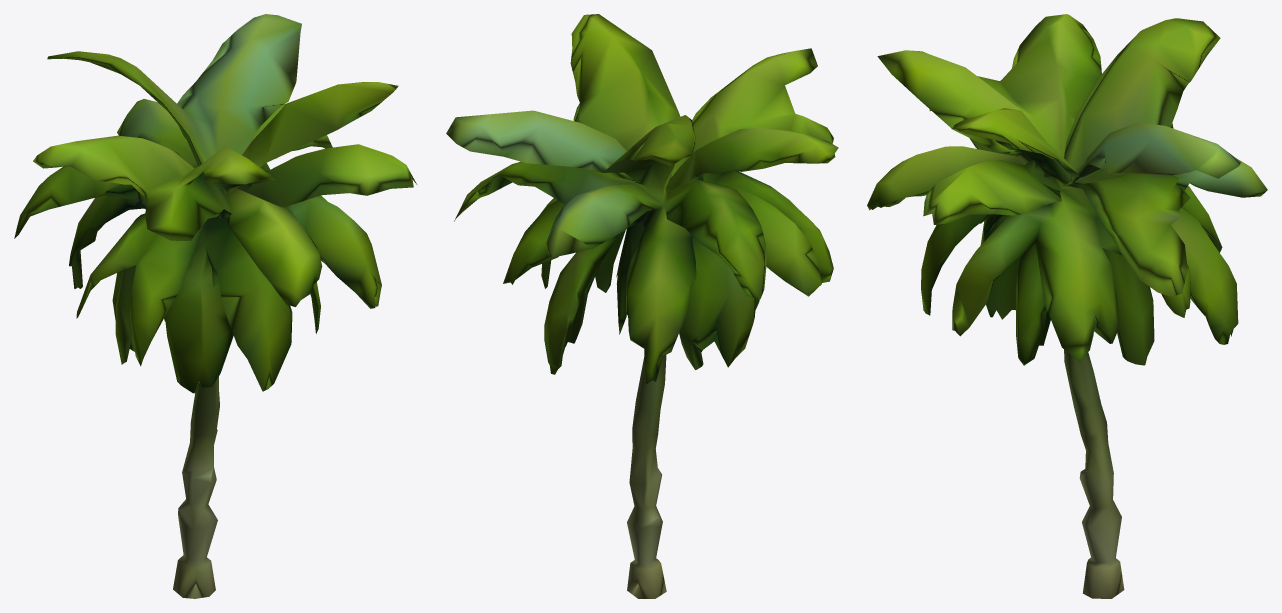
The model's file is palm_near.glb.
3 views of the same model, side by side, from view 1: azimuth 30°, elevation 25°; view 2: azimuth 150°, elevation 25°; view 3: azimuth 270°, elevation 25° (orthographic). The views are drawn at different scales.
Parts seen in each view (by area): view 1: palm; view 2: palm; view 3: palm.
Boxes of the visible parts, x1,y1,x2,y2 form: palm: [14, 14, 416, 598]; palm: [446, 14, 838, 598]; palm: [867, 14, 1267, 598].
Bounding box in the file's own units: 0.6779 × 1 × 0.682.
